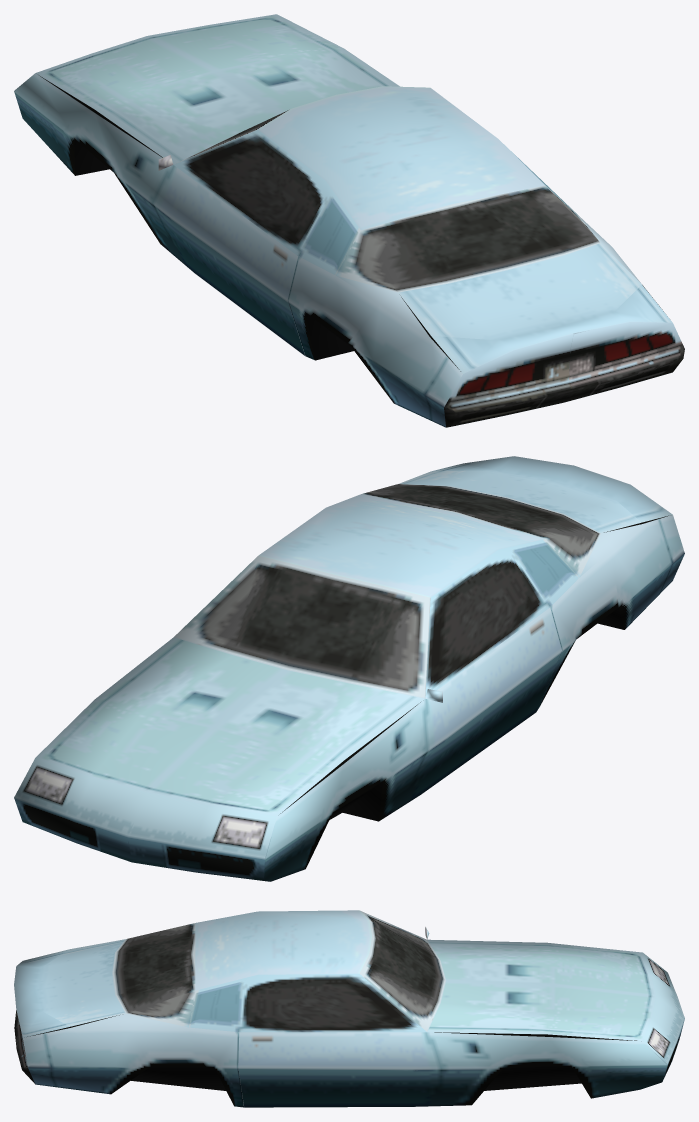
The model's file is firebird.obj.
3 views of the same model, one above another, from view 1: azimuth 30°, elevation 25°; view 2: azimuth 150°, elevation 25°; view 3: azimuth 270°, elevation 25° (orthographic). The views are drawn at different scales.
Visible parts, largest first — view 1: firebird_high_lev_model_1_none_test, firebird_high_lev_model_1_black; view 2: firebird_high_lev_model_1_none_test, firebird_high_lev_model_1_black; view 3: firebird_high_lev_model_1_none_test, firebird_high_lev_model_1_black.
Part boxes in pixels (left/top/right/bottom): firebird_high_lev_model_1_none_test: left=14, top=14, right=684, bottom=427; firebird_high_lev_model_1_black: left=74, top=139, right=353, bottom=360; firebird_high_lev_model_1_none_test: left=14, top=456, right=684, bottom=881; firebird_high_lev_model_1_black: left=329, top=607, right=624, bottom=821; firebird_high_lev_model_1_none_test: left=14, top=910, right=684, bottom=1107; firebird_high_lev_model_1_black: left=131, top=1066, right=581, bottom=1090.
Size of the model in its own units: 1.05 by 0.6148 by 2.9.
2 materials, 1 textured.
